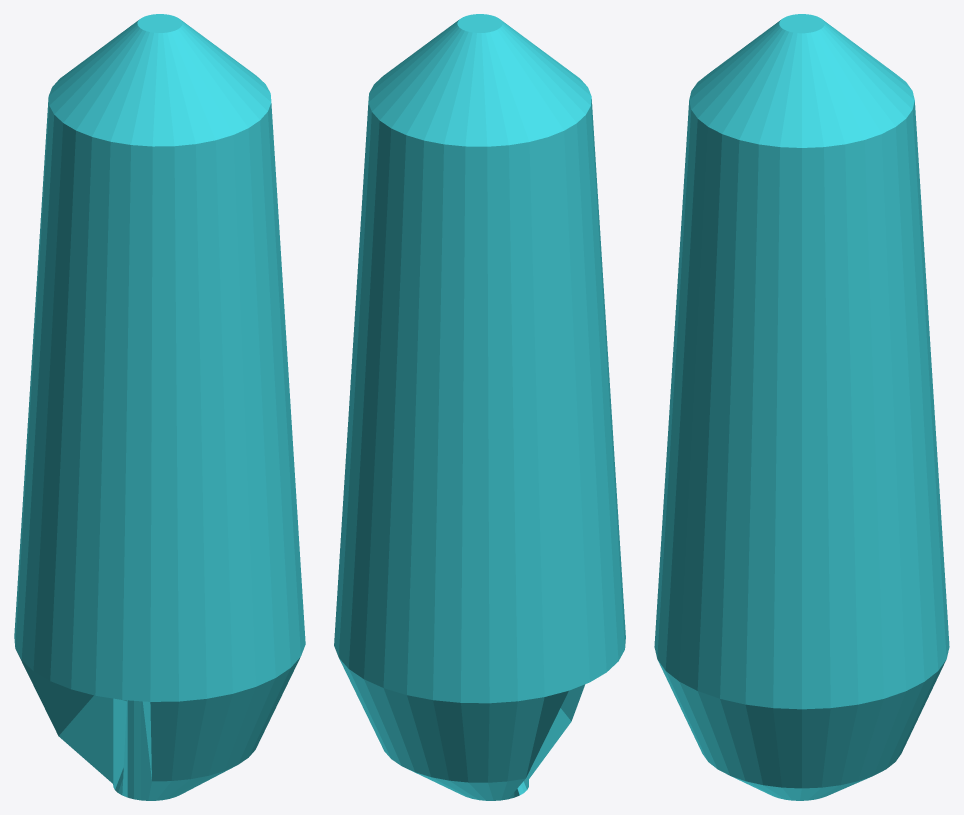
File: player.glb
3 views of the same model, side by side, from view 1: azimuth 30°, elevation 25°; view 2: azimuth 150°, elevation 25°; view 3: azimuth 270°, elevation 25° (orthographic).
Parts seen in each view (by area): view 1: Cylinder; view 2: Cylinder; view 3: Cylinder.
Part boxes in pixels (x1=…): Cylinder: x1=14, y1=14, x2=305, y2=800; Cylinder: x1=334, y1=14, x2=625, y2=800; Cylinder: x1=654, y1=14, x2=949, y2=800.
Bounding box in the file's own units: 2 × 5.73 × 2.
